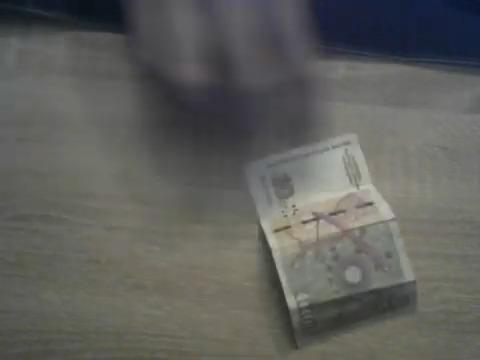10leva: (245, 133, 418, 351)
